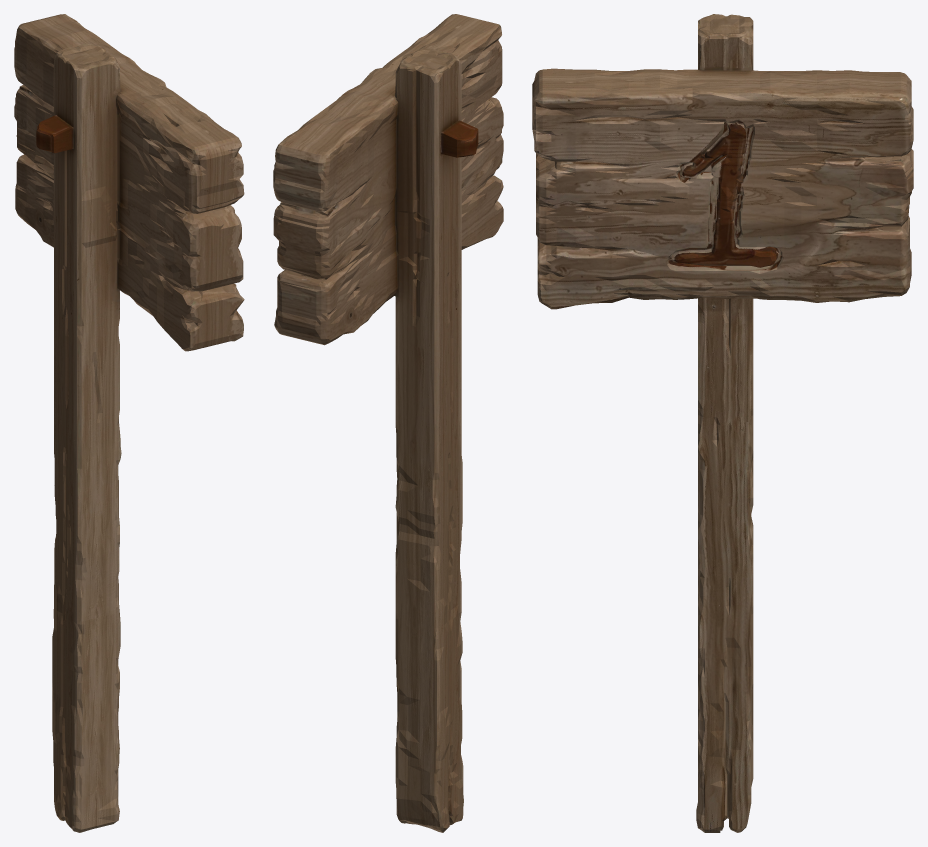
The model's file is Letrero 1.glb.
3 views of the same model, side by side, from view 1: azimuth 30°, elevation 25°; view 2: azimuth 150°, elevation 25°; view 3: azimuth 270°, elevation 25° (orthographic). The views are drawn at different scales.
Visible parts, largest first — view 1: tripo_node_7fa1b471-eb2d-42d0-9f01-681dce990295; view 2: tripo_node_7fa1b471-eb2d-42d0-9f01-681dce990295; view 3: tripo_node_7fa1b471-eb2d-42d0-9f01-681dce990295.
Boxes of the visible parts, x1,y1,x2,y2 form: tripo_node_7fa1b471-eb2d-42d0-9f01-681dce990295: (14,14,244,832); tripo_node_7fa1b471-eb2d-42d0-9f01-681dce990295: (273,14,503,832); tripo_node_7fa1b471-eb2d-42d0-9f01-681dce990295: (532,14,913,832).
Bounding box in the file's own units: 0.1585 × 1 × 0.4325.
Materials: 1 (1 with a texture image).
